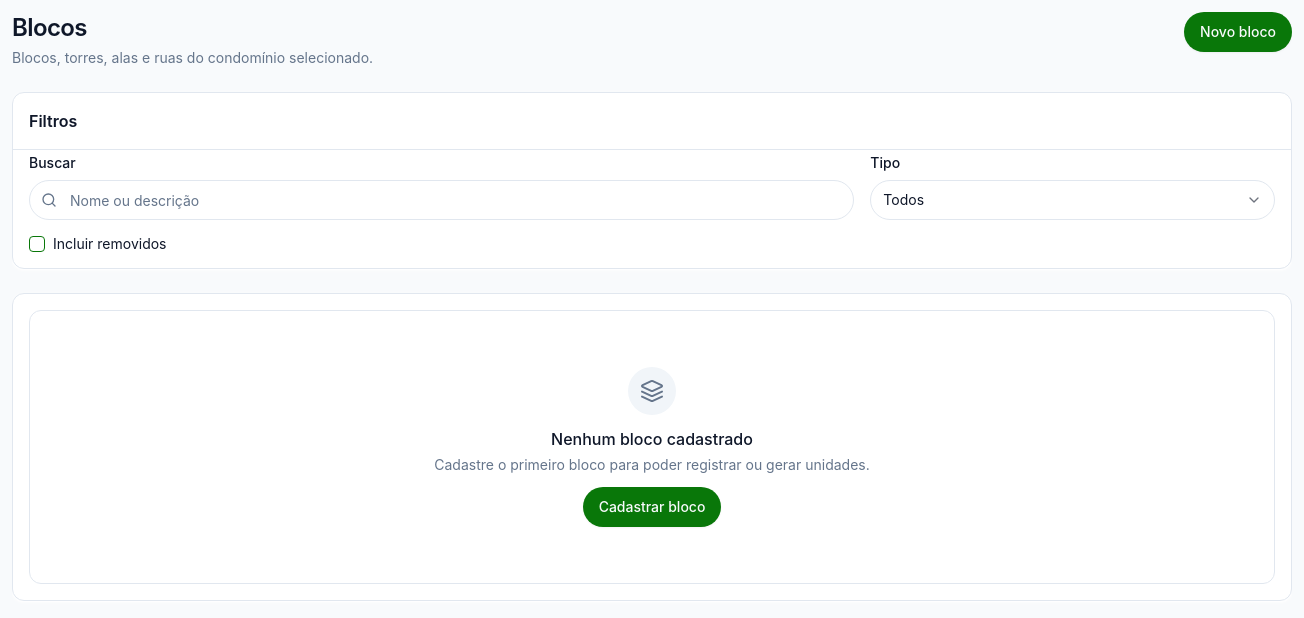
Test: Listagem de blocos › lista vazia oferece cadastrar, e busca sem resultado oferece limpar
Expected: the text "Nenhum bloco cadastrado" is shown, [551, 429, 753, 449]
Expected: the button "Cadastrar bloco" is shown, [583, 487, 721, 527]
Type "torre" into the field labelled "Buscar".
click(442, 200); type("torre")  # box [29, 180, 854, 220]
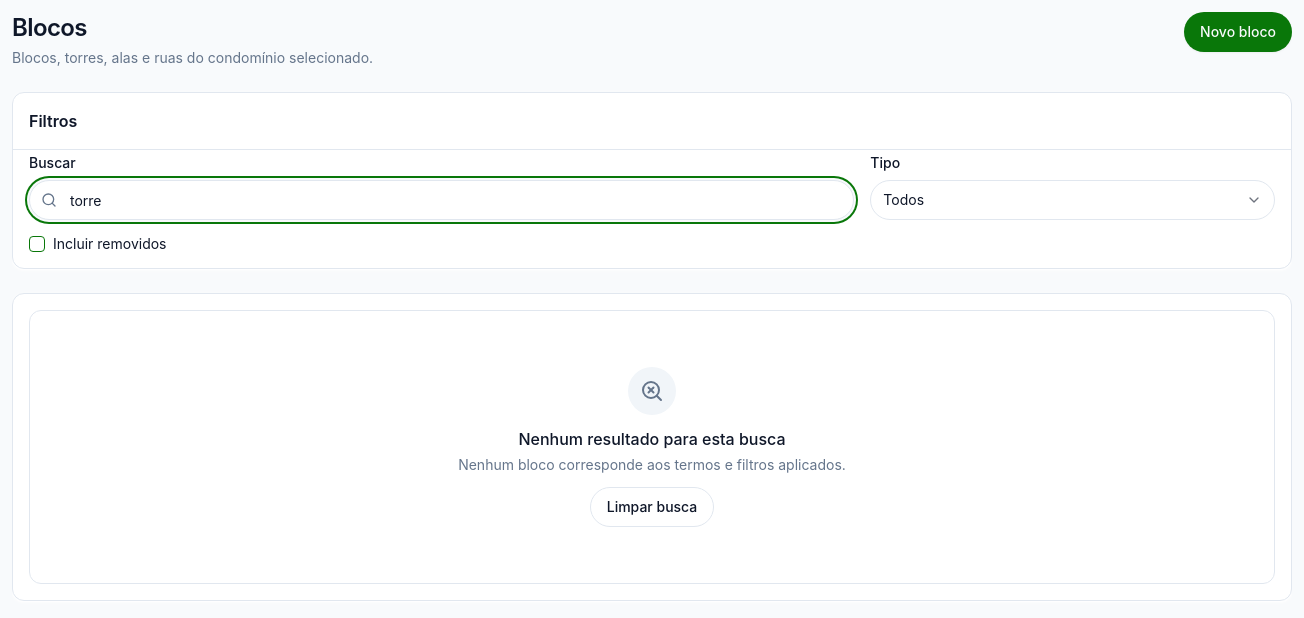
Now the text "Nenhum resultado para esta busca" is shown, box [518, 429, 786, 449]
Now the button "Limpar busca" is shown, box [590, 487, 714, 527]
Now the button "Cadastrar bloco" is gone
